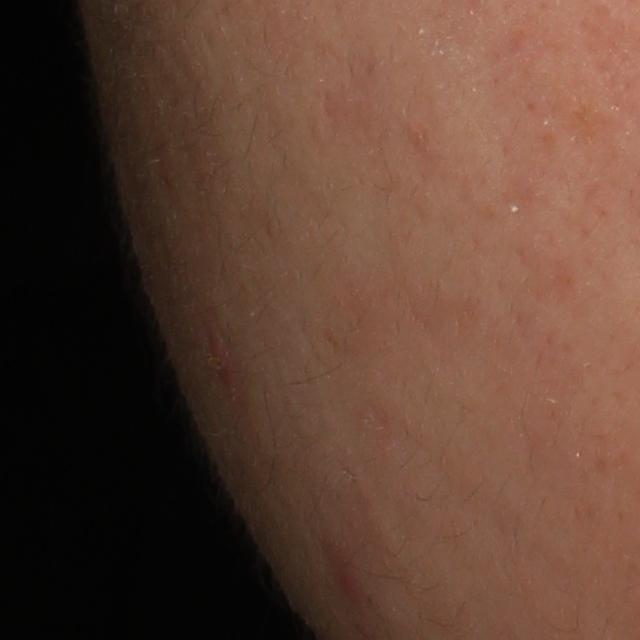papule: (337, 572, 357, 596)
